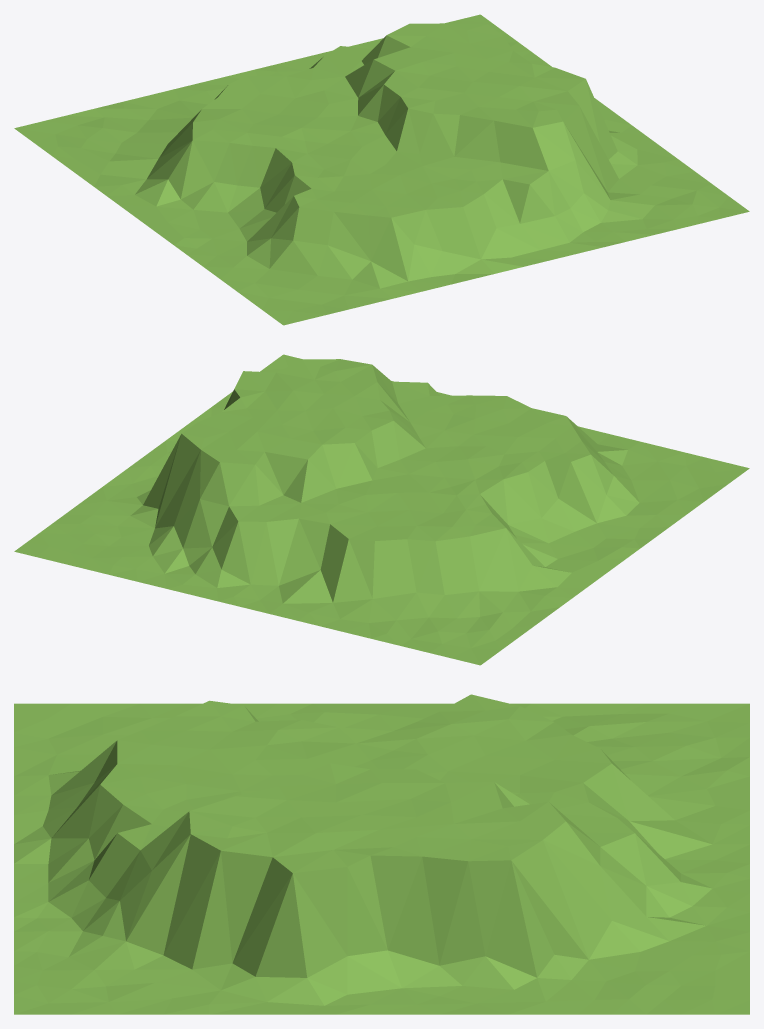
File: MT_Terrain_M_c_21_LOD.fbx
3 renders of one model, top to bottom at view 1: azimuth 30°, elevation 25°; view 2: azimuth 150°, elevation 25°; view 3: azimuth 270°, elevation 25°, orthographic. The views are drawn at different scales.
Parts seen in each view (by area): view 1: MT_Terrain_M_c_21_LOD0; view 2: MT_Terrain_M_c_21_LOD0; view 3: MT_Terrain_M_c_21_LOD0.
Part boxes in pixels (x1,y1,x2,y2): MT_Terrain_M_c_21_LOD0: [14, 14, 749, 325]; MT_Terrain_M_c_21_LOD0: [14, 354, 749, 665]; MT_Terrain_M_c_21_LOD0: [14, 694, 749, 1014].
Size of what is drawn, in the model's own units: 5000 by 771 by 5000.
